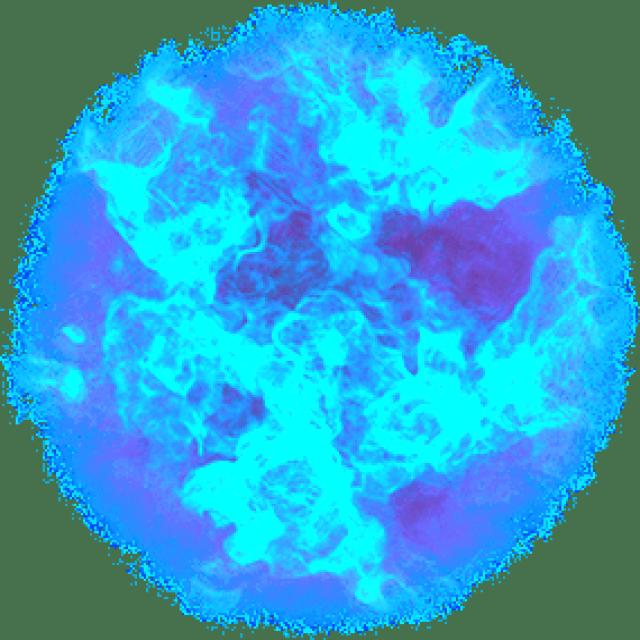Illustration: (0, 0, 638, 635)
